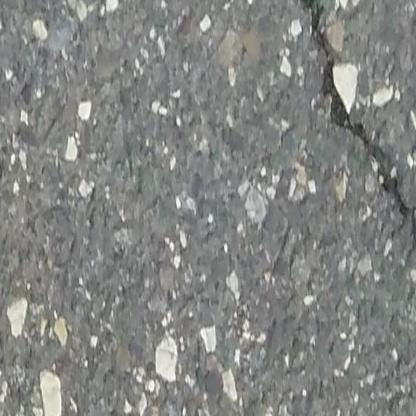Cracks: (295, 0, 404, 211), (410, 204, 416, 280)
